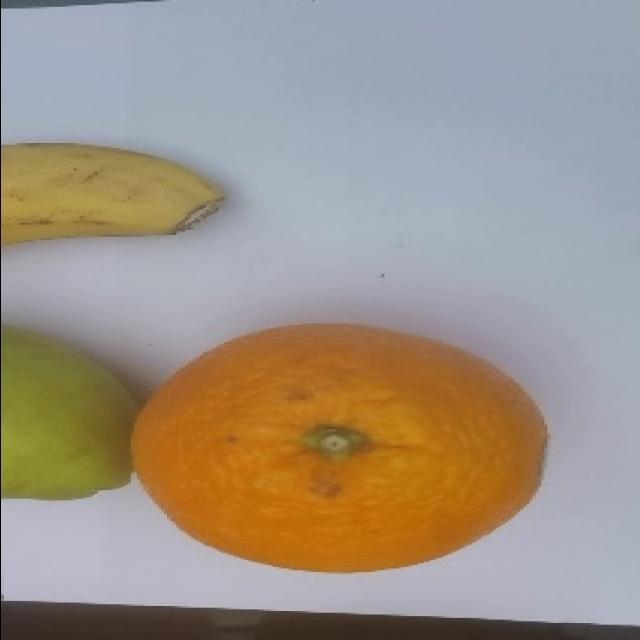Banana: (0, 140, 226, 246)
Orange: (129, 320, 549, 573)
